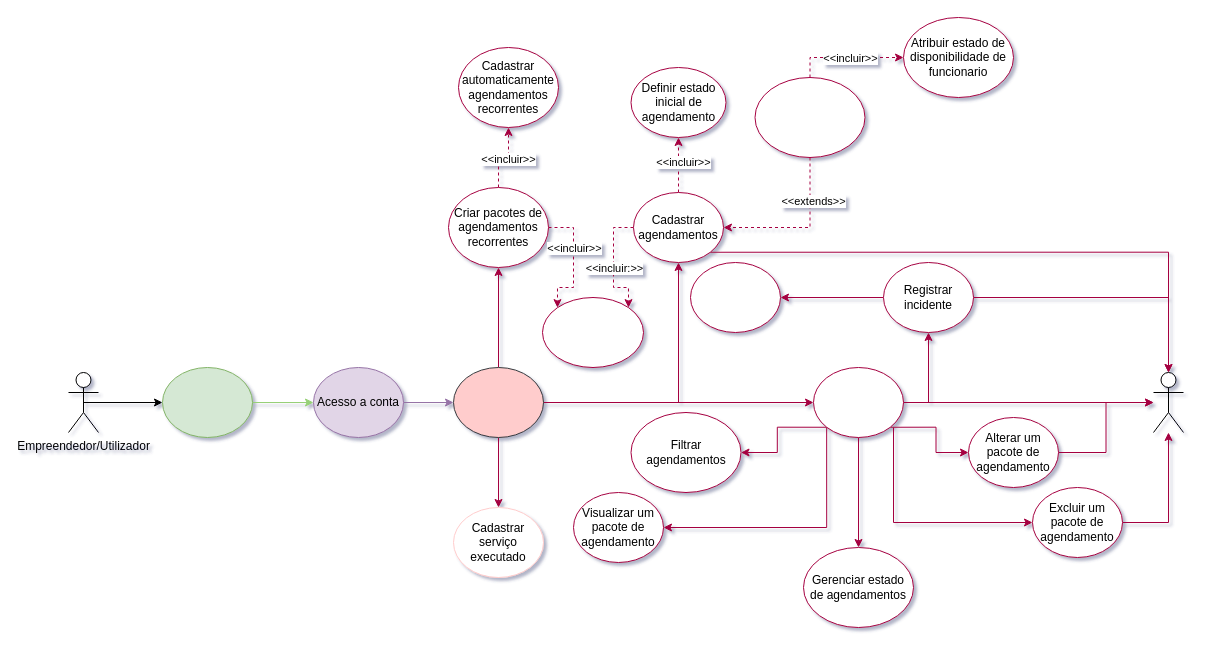
This 1209x651 diagram has some shape labels left out. Each missing label, with the centre of its shape:
"Acesso aos agendamentos" goes at point (498, 402).
"Atribuir Funcionario" goes at point (809, 117).
"Definir categoria de serviço" goes at point (593, 332).
"Historico de agendamentos" goes at point (858, 402).
"Login" goes at point (207, 402).
"SGBD" goes at point (1168, 402).
"Visualizar incidentes" goes at point (735, 297).
